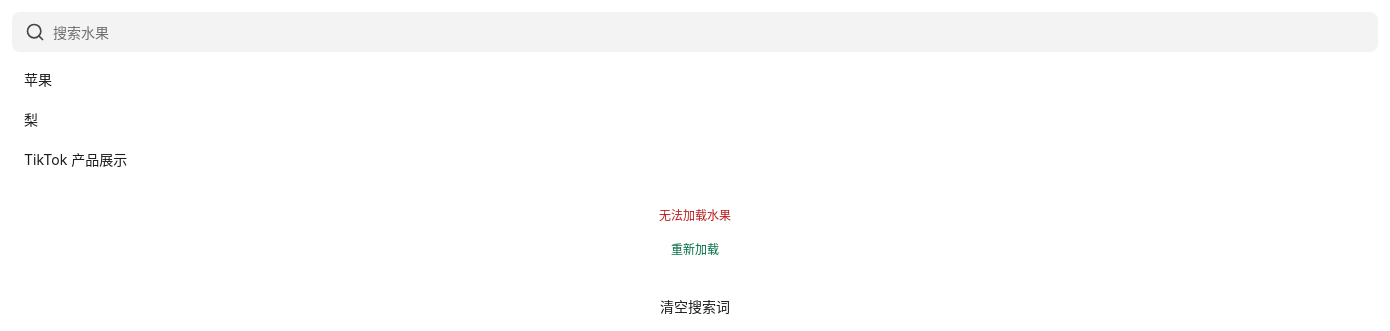
Test: SearchList › 读取失败时错误与缓存候选并存，重试后焦点回到搜索框
Expected: the message reads "无法加载水果", [659, 208, 731, 223]
Expected: the number of options is 3, [12, 60, 1378, 100]; [12, 100, 1378, 140]; [12, 140, 1378, 180]
Click the button "重新加载": (695, 250) [655, 232, 735, 268]
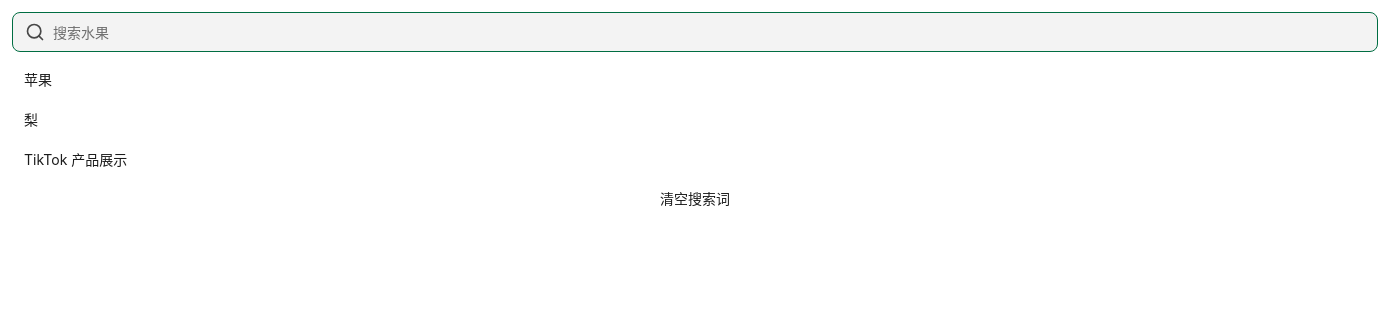
Result: the message "无法加载水果" is gone
